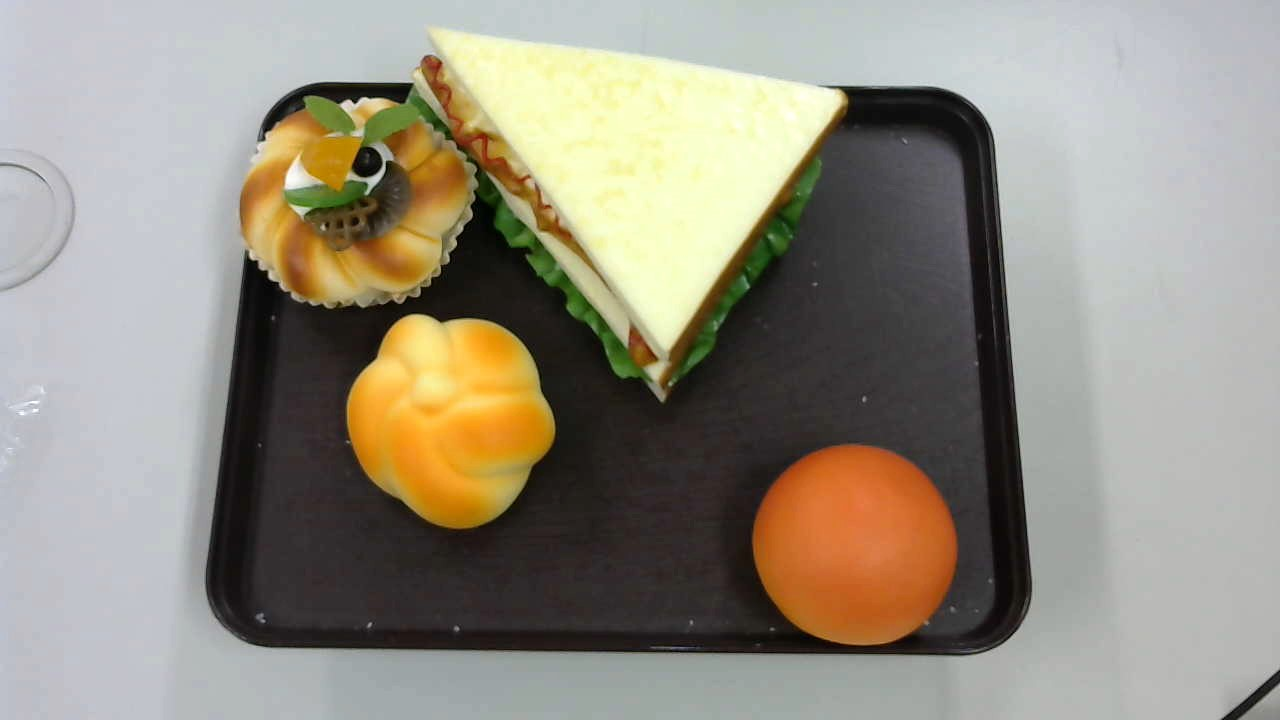bun: (749, 443, 958, 649)
fruit tart: (236, 95, 479, 307)
sandwich: (405, 24, 849, 404)
twist bread: (346, 312, 555, 531)
